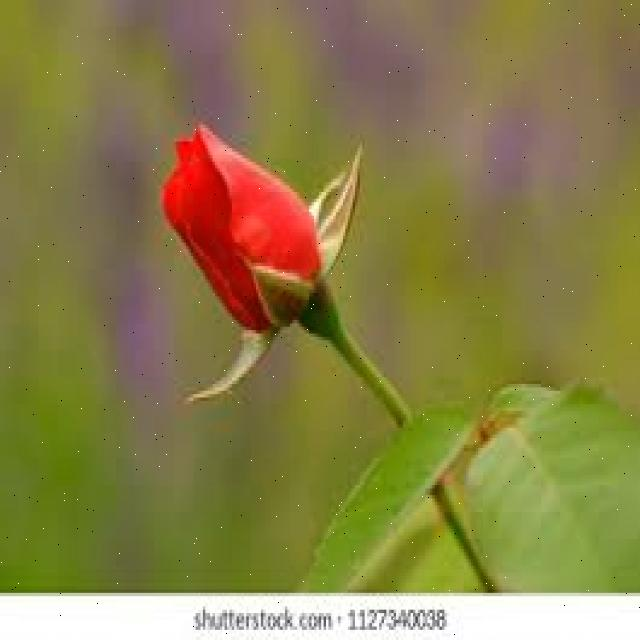Unbloomed: (150, 94, 366, 385)
